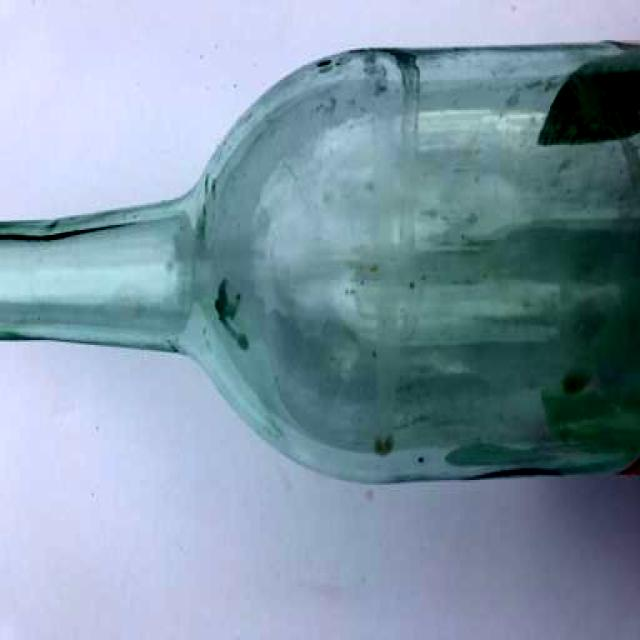Glass: (0, 36, 640, 496)
